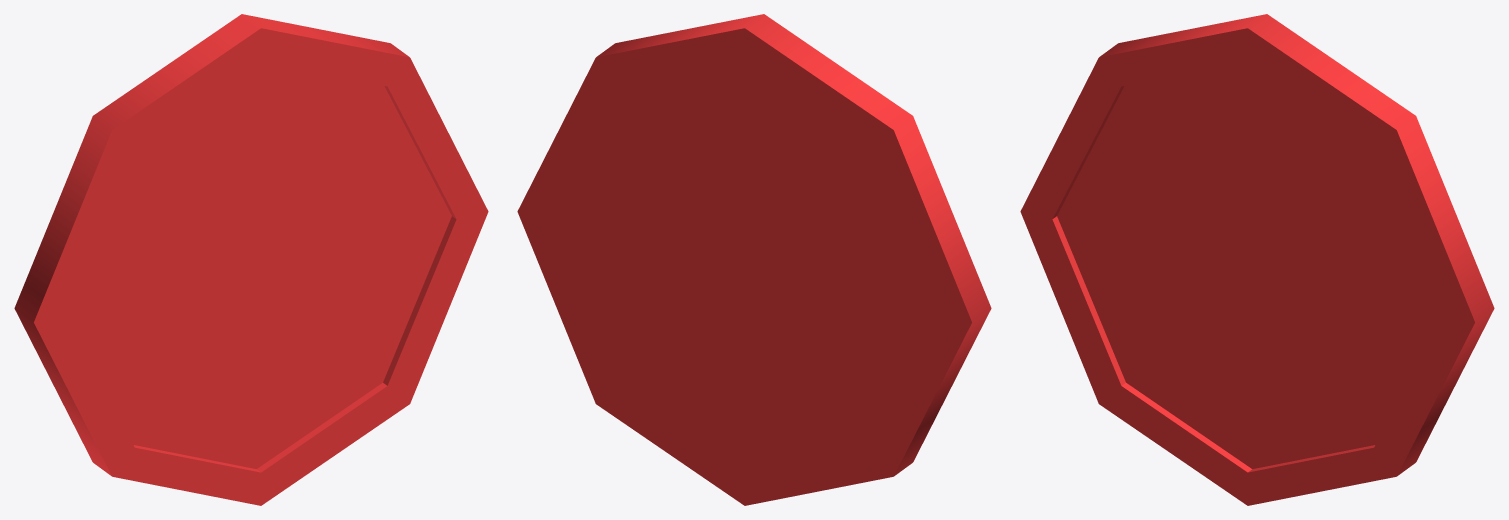
File: Itr_Obj_Frame4_05.FBX
3 renders of one model, left to right at view 1: azimuth 30°, elevation 25°; view 2: azimuth 150°, elevation 25°; view 3: azimuth 330°, elevation 25°, orthographic.
Visible parts, largest first — view 1: Itr_Obj_Frame4_05; view 2: Itr_Obj_Frame4_05; view 3: Itr_Obj_Frame4_05.
Boxes of the visible parts, x1,y1,x2,y2 form: Itr_Obj_Frame4_05: (14, 14, 488, 505); Itr_Obj_Frame4_05: (517, 14, 991, 505); Itr_Obj_Frame4_05: (1020, 14, 1494, 505).
Bounding box in the file's own units: 31.46 × 31.59 × 2.32.
